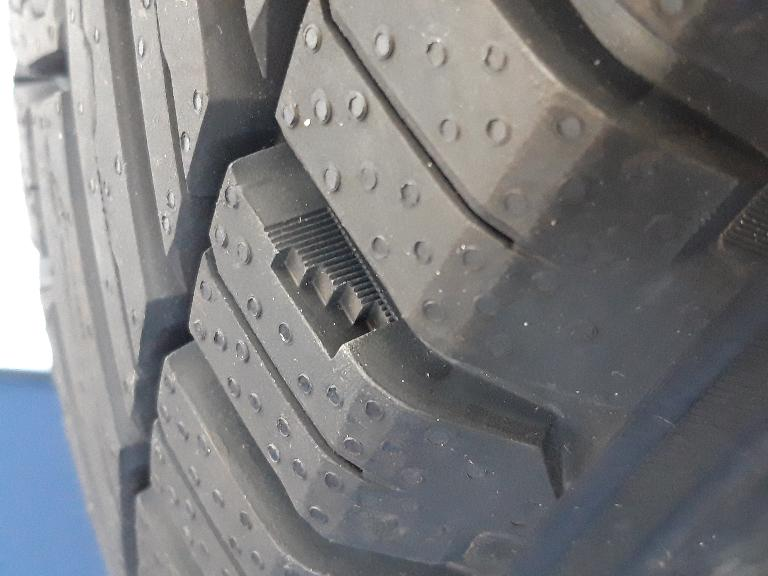temoin:100: (254, 199, 408, 369)
